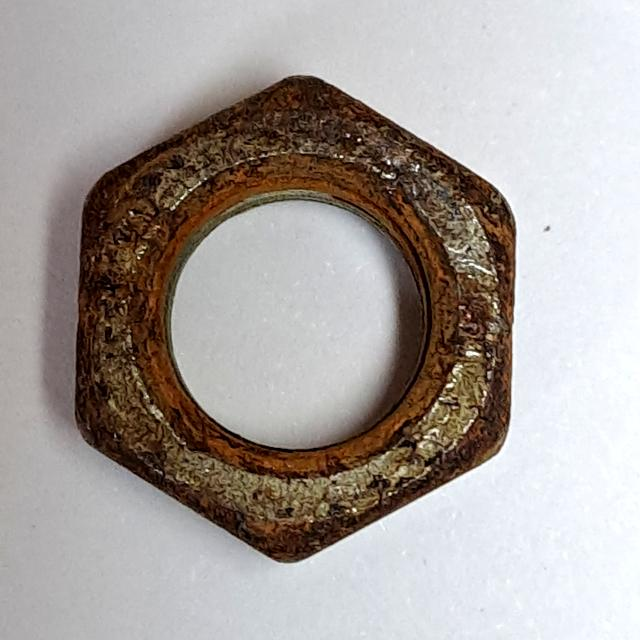Rust: (59, 64, 527, 573)
